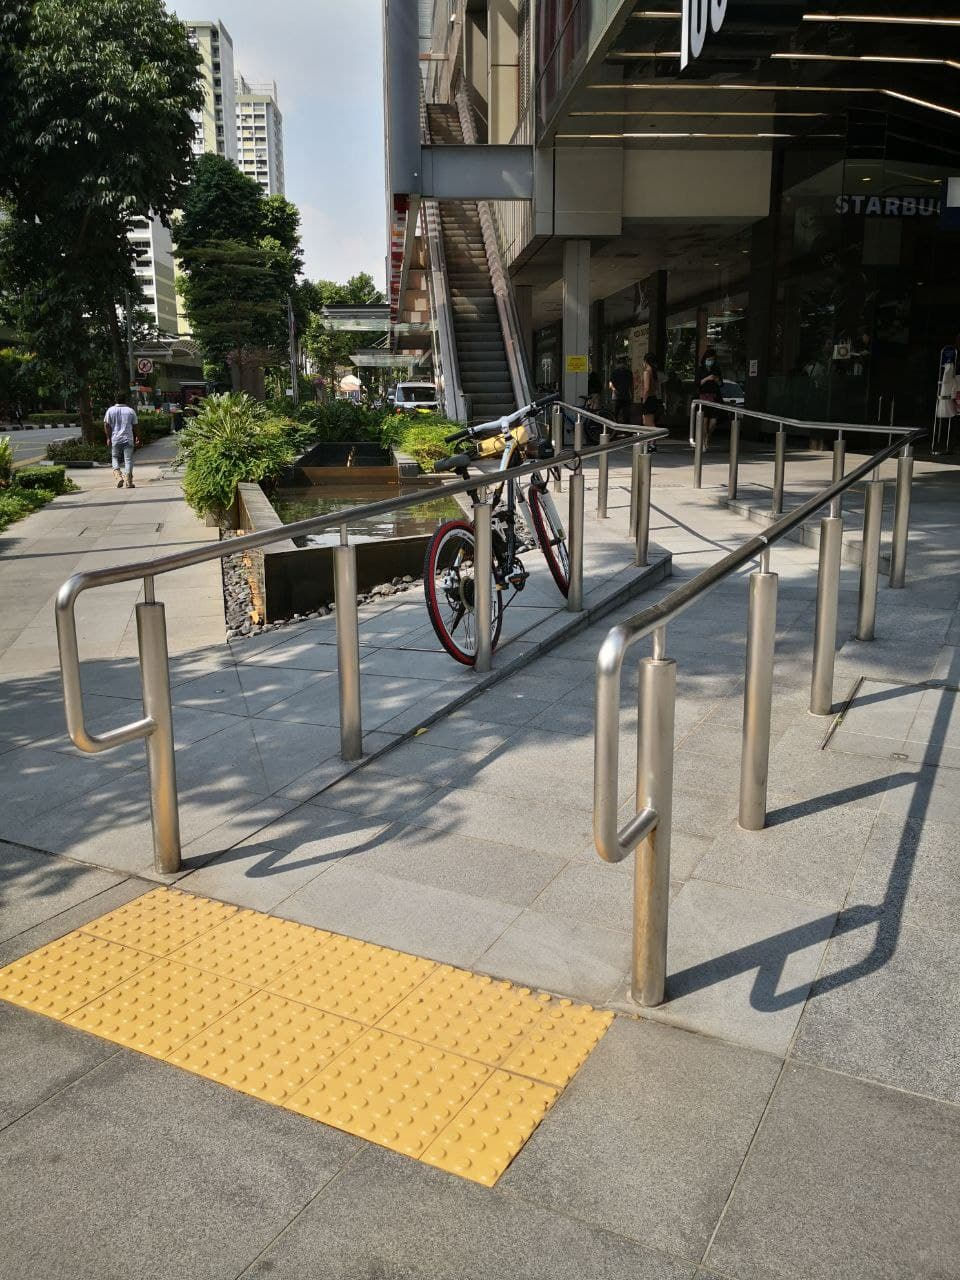slopes: (10, 390, 947, 1041)
